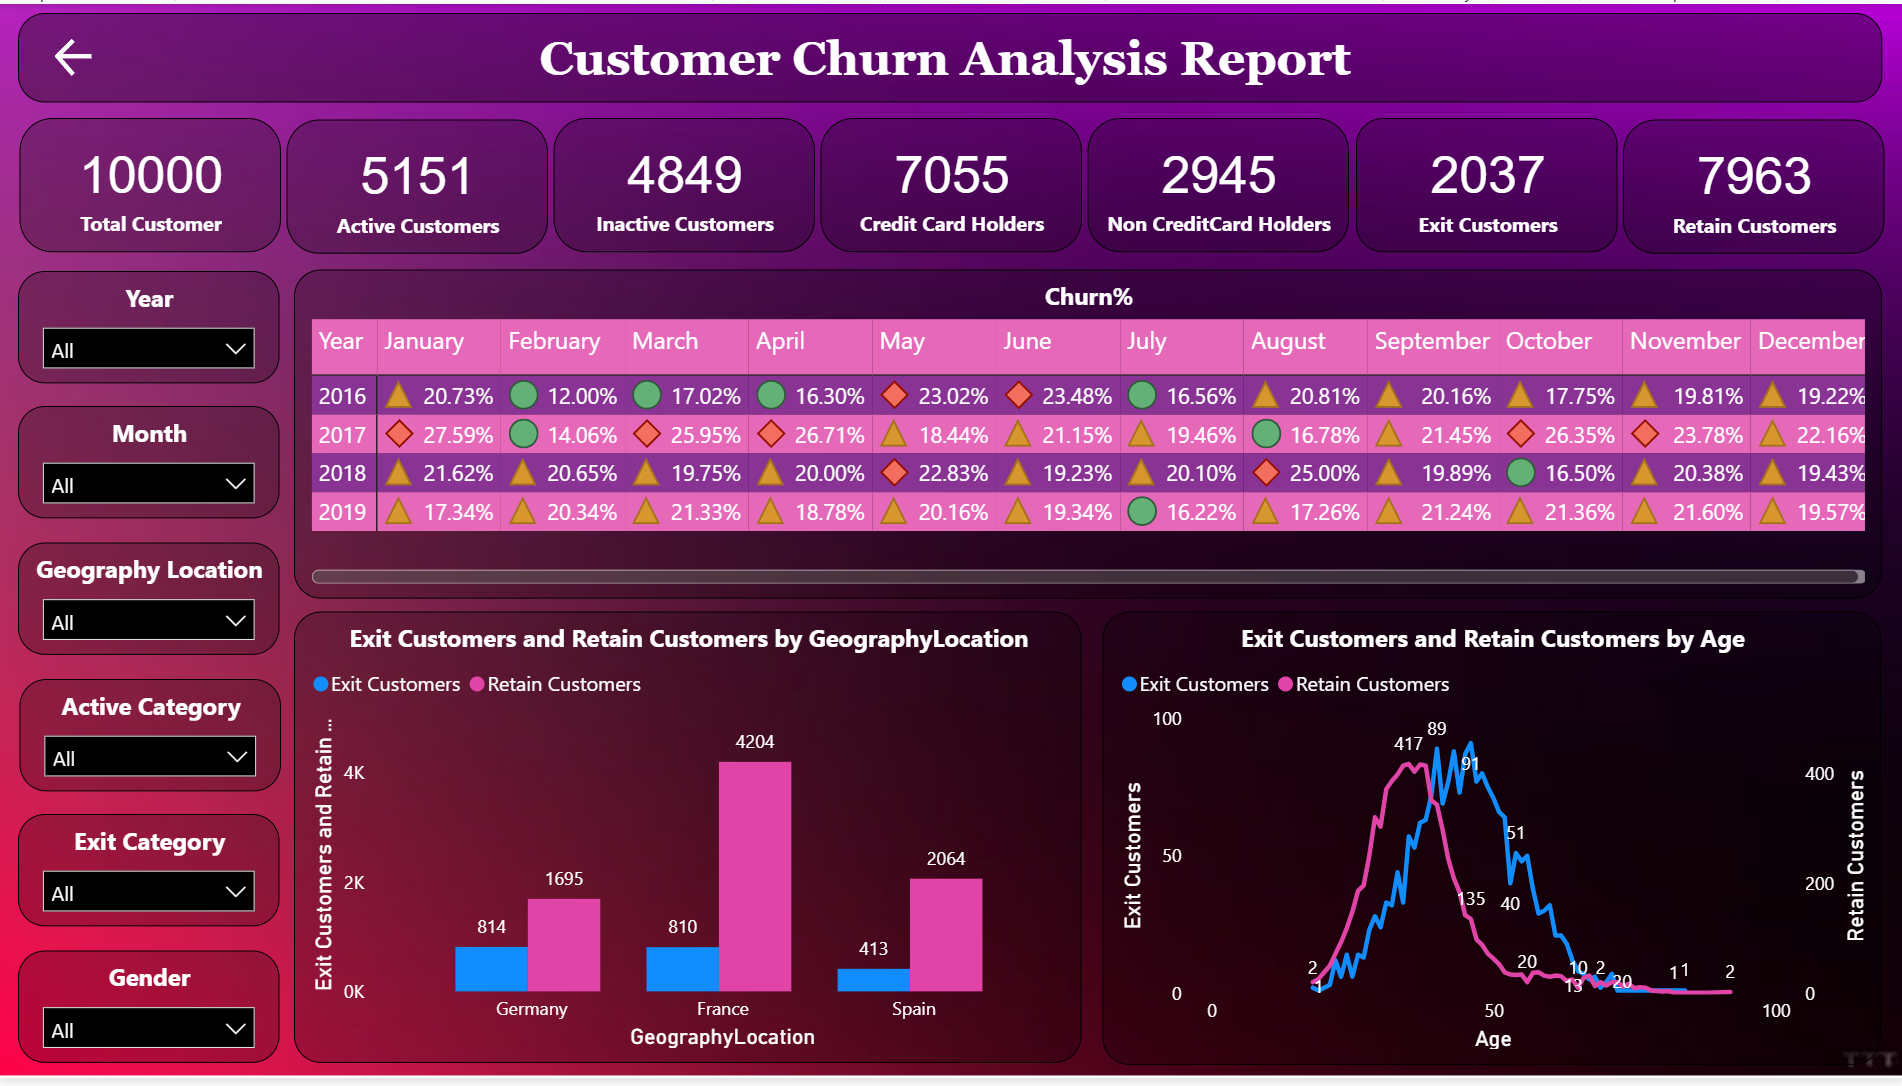

Layout of this report page (visuals, bound fields, positions):
{"tool":"powerbi","page":{"name":"Page 2","canvas":[1280,720],"ordinal":1},"visuals":[{"type":"slicer","title":"Month","fields":{"Values":["Date Master.Month"]},"box":[13.8,269.9,175,75.5],"z":0},{"type":"textbox","box":[13.8,6.2,1250,60],"z":1000},{"type":"card","title":"Total Customers","fields":{"Values":["Calculation.Total Customer"]},"box":[15,76.2,175,90],"z":2000},{"type":"slicer","title":"Year","fields":{"Values":["Date Master.Year"]},"box":[13.8,178.8,175,75.5],"z":3000},{"type":"card","title":"Active Customers","fields":{"Values":["Calculation.Active Customer"]},"box":[194.2,77.5,175,90],"z":4000},{"type":"slicer","title":"Exit Category","fields":{"Values":["Exit Customer.ExitCategory"]},"box":[13.8,543.3,175,75.5],"z":5000},{"type":"card","title":"Non Credit Card Holders","fields":{"Values":["Calculation.Non CreditCard Holders"]},"box":[731.7,76.2,175,90],"z":6000},{"type":"slicer","title":"Active Category","fields":{"Values":["ActiveCustomer.ActiveCategory"]},"box":[15,452.2,175,75.5],"z":7000},{"type":"card","title":"Credit Card Holders","fields":{"Values":["Calculation.CreditCard Holder"]},"box":[552.5,76.2,175,90],"z":8000},{"type":"slicer","title":"Geography Location","fields":{"Values":["Geography.GeographyLocation"]},"box":[13.8,361,175,75.5],"z":9000},{"type":"card","title":"Inactive Customers","fields":{"Values":["Calculation.Inactive Customers"]},"box":[373.3,76.2,175,90],"z":10000},{"type":"slicer","title":"Gender","fields":{"Values":["Gender.GenderCategory"]},"box":[13.8,634.5,175,75.5],"z":11000},{"type":"card","title":"Retain Customers","fields":{"Values":["Calculation.Retain Customers"]},"box":[1090,77.5,175,90],"z":12000},{"type":"pivotTable","title":"Churn%","fields":{"Rows":["Date Master.Year"],"Columns":["Date Master.Month"],"Values":["Calculation.Churn%"]},"box":[199,178.5,1064.9,220.7],"z":13000},{"type":"card","title":"Exit Customers","fields":{"Values":["Calculation.Exit Customers"]},"box":[910.8,76.2,175,90],"z":14000},{"type":"clusteredColumnChart","fields":{"Category":["Geography.GeographyLocation"],"Y":["Calculation.Exit Customers","Calculation.Retain Customers"]},"box":[199,407.6,528.2,302.7],"z":15000},{"type":"actionButton","box":[32.5,16.2,47.5,40],"z":16000},{"type":"lineChart","fields":{"Category":["Bank_Churn.Age"],"Y":["Calculation.Exit Customers"],"Y2":["Calculation.Retain Customers"]},"box":[741.7,407.6,522.2,303.9],"z":17000}]}

Visuals, with their boxes in screenshot pixels (x1, y1, x2, y2), scaled from the page's 1280x720 canvas onto the 1902x1086 screenshot:
"Month" slicer: region(21, 407, 281, 521)
textbox: region(21, 9, 1878, 100)
"Total Customers" card: region(22, 115, 282, 251)
"Year" slicer: region(21, 270, 281, 384)
"Active Customers" card: region(289, 117, 549, 253)
"Exit Category" slicer: region(21, 819, 281, 933)
"Non Credit Card Holders" card: region(1087, 115, 1347, 251)
"Active Category" slicer: region(22, 682, 282, 796)
"Credit Card Holders" card: region(821, 115, 1081, 251)
"Geography Location" slicer: region(21, 545, 281, 658)
"Inactive Customers" card: region(555, 115, 815, 251)
"Gender" slicer: region(21, 957, 281, 1071)
"Retain Customers" card: region(1620, 117, 1880, 253)
"Churn%" pivotTable: region(296, 269, 1878, 602)
"Exit Customers" card: region(1353, 115, 1613, 251)
clusteredColumnChart - Geography.GeographyLocation x Calculation.Exit Customers: region(296, 615, 1081, 1071)
actionButton: region(48, 24, 119, 85)
lineChart - Bank_Churn.Age x Calculation.Exit Customers: region(1102, 615, 1878, 1073)
